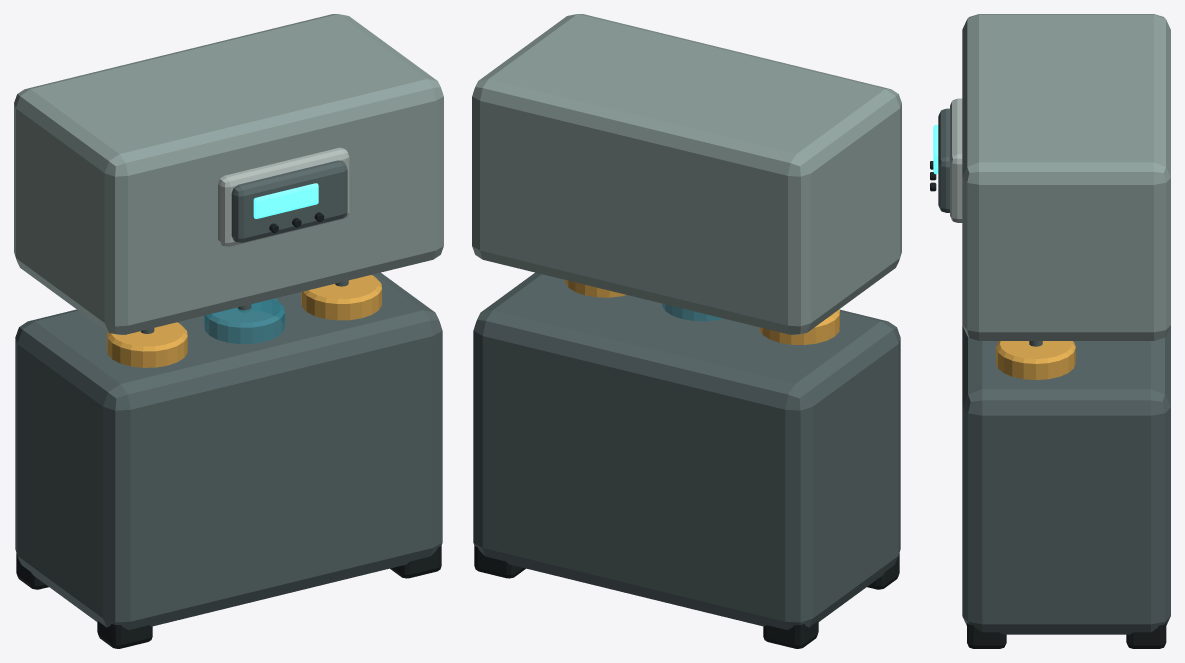
Rendered from Station de dosage automatique.glb.
3 renders of one model, left to right at view 1: azimuth 30°, elevation 25°; view 2: azimuth 150°, elevation 25°; view 3: azimuth 270°, elevation 25°, orthographic.
Visible parts, largest first — view 1: 12_automatic_dosing_station_Chassis, 12_automatic_dosing_station_Upper_Housing, 12_automatic_dosing_station_Control_Housing, 12_automatic_dosing_station_Control_Mounting_Plate, 12_automatic_dosing_station_Dose_Canister_1, 12_automatic_dosing_station_Dose_Canister_3, 12_automatic_dosing_station_Dose_Canister_2, 12_automatic_dosing_station_Control_Screen, 12_automatic_dosing_station_Foot_-1_-1, 12_automatic_dosing_station_Foot_1_-1; view 2: 12_automatic_dosing_station_Chassis, 12_automatic_dosing_station_Upper_Housing, 12_automatic_dosing_station_Dose_Canister_1, 12_automatic_dosing_station_Foot_-1_1, 12_automatic_dosing_station_Foot_1_1; view 3: 12_automatic_dosing_station_Upper_Housing, 12_automatic_dosing_station_Chassis, 12_automatic_dosing_station_Dose_Canister_3, 12_automatic_dosing_station_Control_Mounting_Plate, 12_automatic_dosing_station_Control_Housing, 12_automatic_dosing_station_Foot_1_1, 12_automatic_dosing_station_Foot_1_-1.
Part boxes in pixels (box(x1,y1,x2,y2)): 12_automatic_dosing_station_Chassis: box(15, 272, 442, 629); 12_automatic_dosing_station_Upper_Housing: box(14, 14, 443, 334); 12_automatic_dosing_station_Control_Housing: box(231, 160, 347, 242); 12_automatic_dosing_station_Control_Mounting_Plate: box(218, 147, 349, 246); 12_automatic_dosing_station_Dose_Canister_1: box(107, 322, 187, 367); 12_automatic_dosing_station_Dose_Canister_3: box(301, 275, 381, 320); 12_automatic_dosing_station_Dose_Canister_2: box(204, 298, 284, 344); 12_automatic_dosing_station_Control_Screen: box(253, 183, 318, 218); 12_automatic_dosing_station_Foot_-1_-1: box(97, 621, 152, 648); 12_automatic_dosing_station_Foot_1_-1: box(390, 546, 441, 578); 12_automatic_dosing_station_Chassis: box(473, 272, 900, 629); 12_automatic_dosing_station_Upper_Housing: box(472, 14, 901, 334); 12_automatic_dosing_station_Dose_Canister_1: box(759, 309, 839, 344); 12_automatic_dosing_station_Foot_-1_1: box(763, 621, 818, 648); 12_automatic_dosing_station_Foot_1_1: box(474, 546, 525, 578); 12_automatic_dosing_station_Upper_Housing: box(962, 14, 1170, 340); 12_automatic_dosing_station_Chassis: box(962, 325, 1170, 634); 12_automatic_dosing_station_Dose_Canister_3: box(996, 341, 1075, 379); 12_automatic_dosing_station_Control_Mounting_Plate: box(950, 98, 962, 222); 12_automatic_dosing_station_Control_Housing: box(938, 108, 950, 212); 12_automatic_dosing_station_Foot_1_1: box(1126, 623, 1166, 648); 12_automatic_dosing_station_Foot_1_-1: box(967, 623, 1006, 648).
Size of the model in its own units: 1.25 by 1.74 by 0.785.
